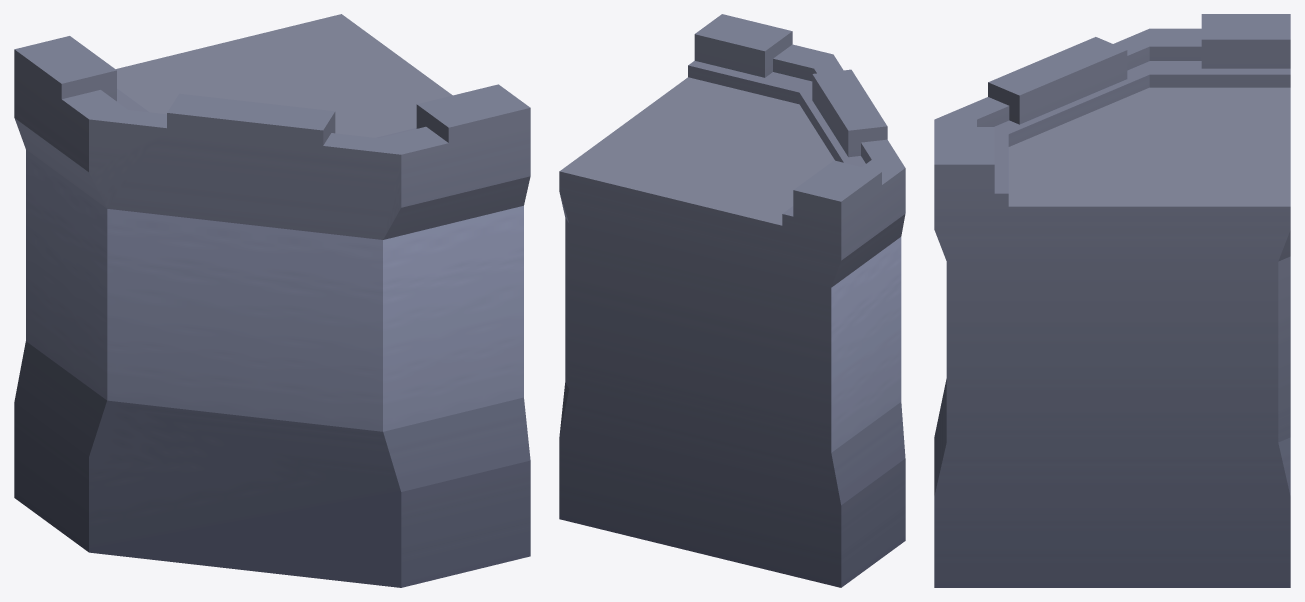
The model's file is wall-corner-slant.fbx.
3 renders of one model, left to right at view 1: azimuth 30°, elevation 25°; view 2: azimuth 150°, elevation 25°; view 3: azimuth 270°, elevation 25°, orthographic. The views are drawn at different scales.
Visible parts, largest first — view 1: wall-corner-slant; view 2: wall-corner-slant; view 3: wall-corner-slant.
Boxes of the visible parts, <box> form: wall-corner-slant: <box>14,14,530,587</box>; wall-corner-slant: <box>559,14,905,587</box>; wall-corner-slant: <box>934,14,1290,587</box>.
Bounding box in the file's own units: 1 × 1 × 1.31.
